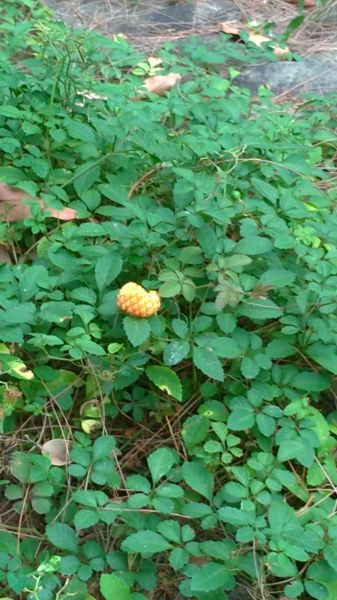eggs: (115, 280, 162, 322)
